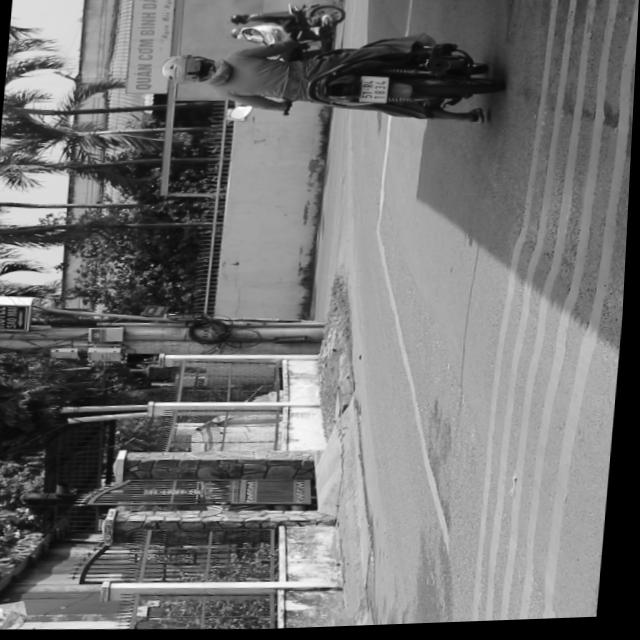helmet: (158, 56, 215, 89)
licenseplate: (152, 25, 501, 139)
nohelmet: (358, 78, 388, 107)
